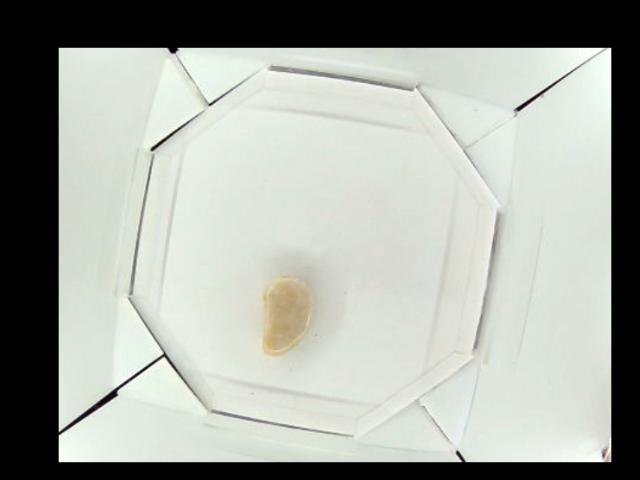Pebble: (261, 279, 311, 356)
